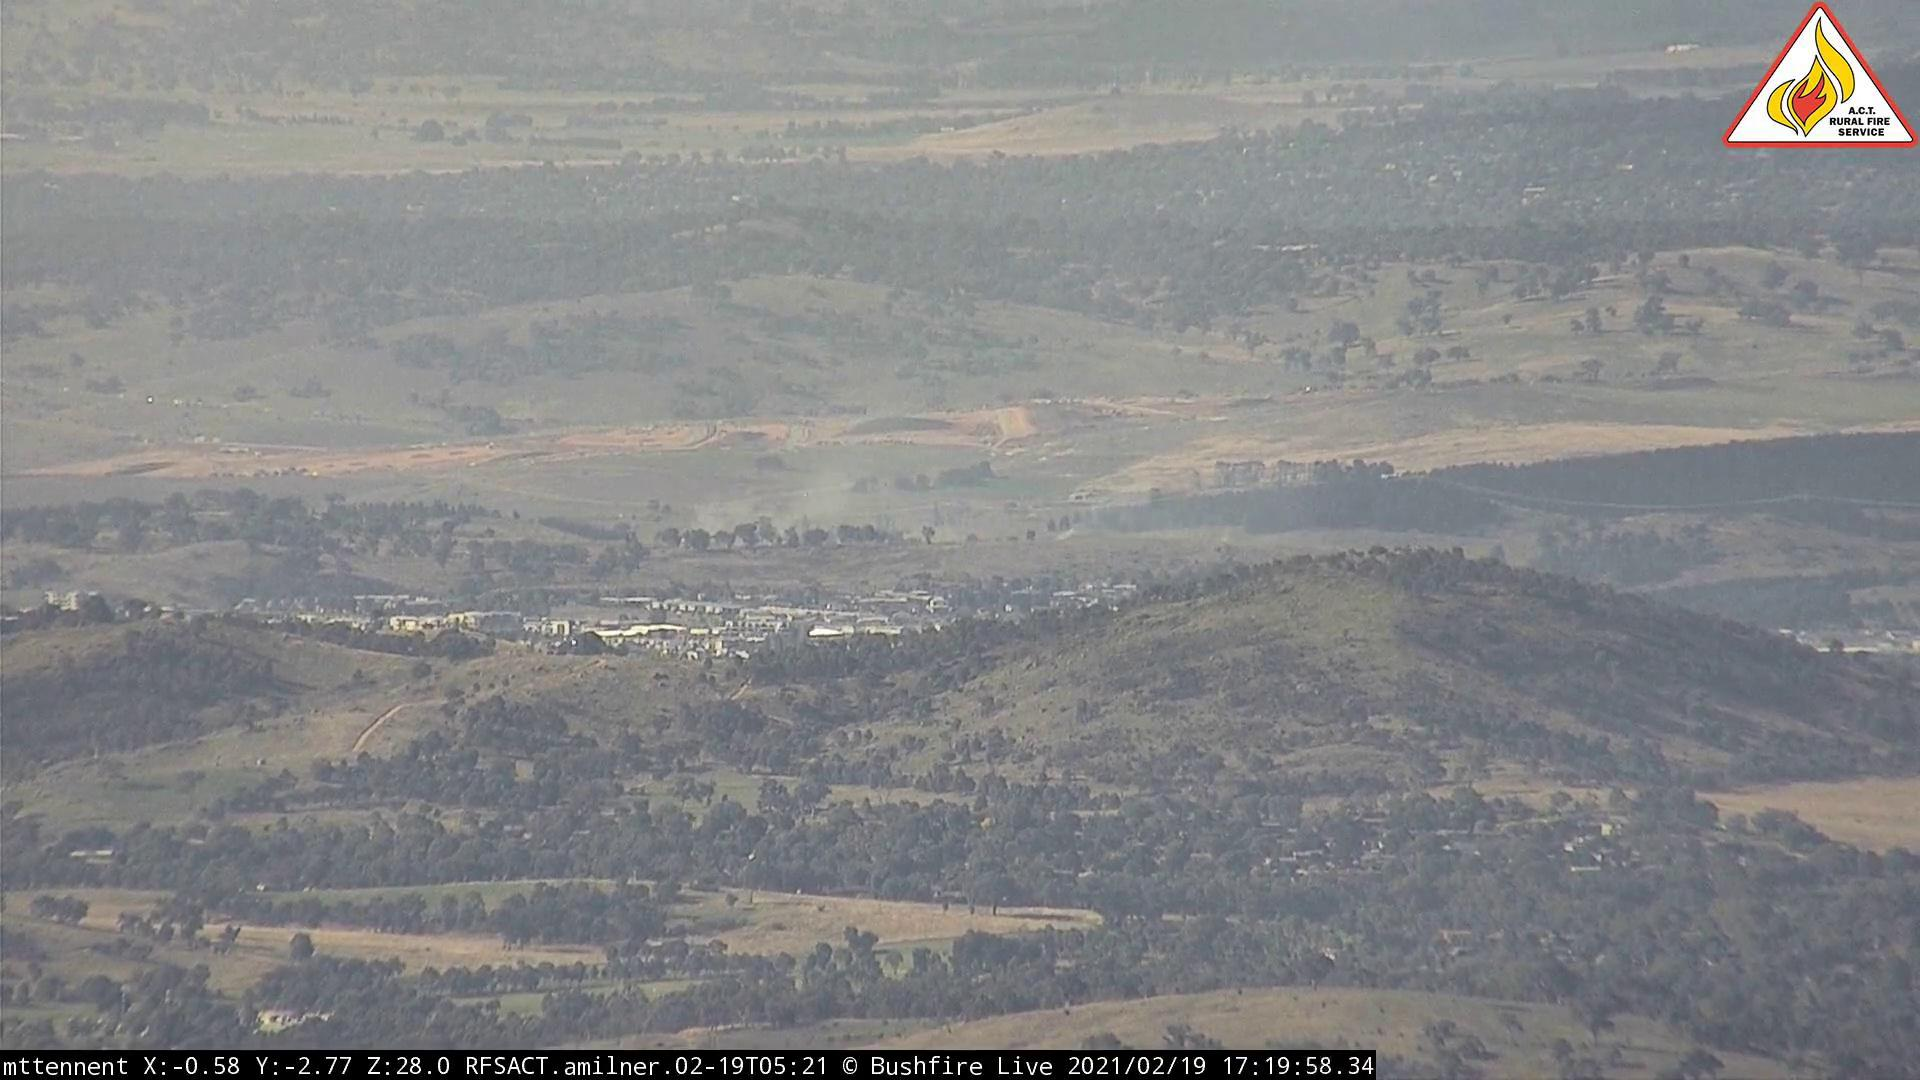Smoke: (676, 448, 909, 554), (1055, 489, 1155, 551)
